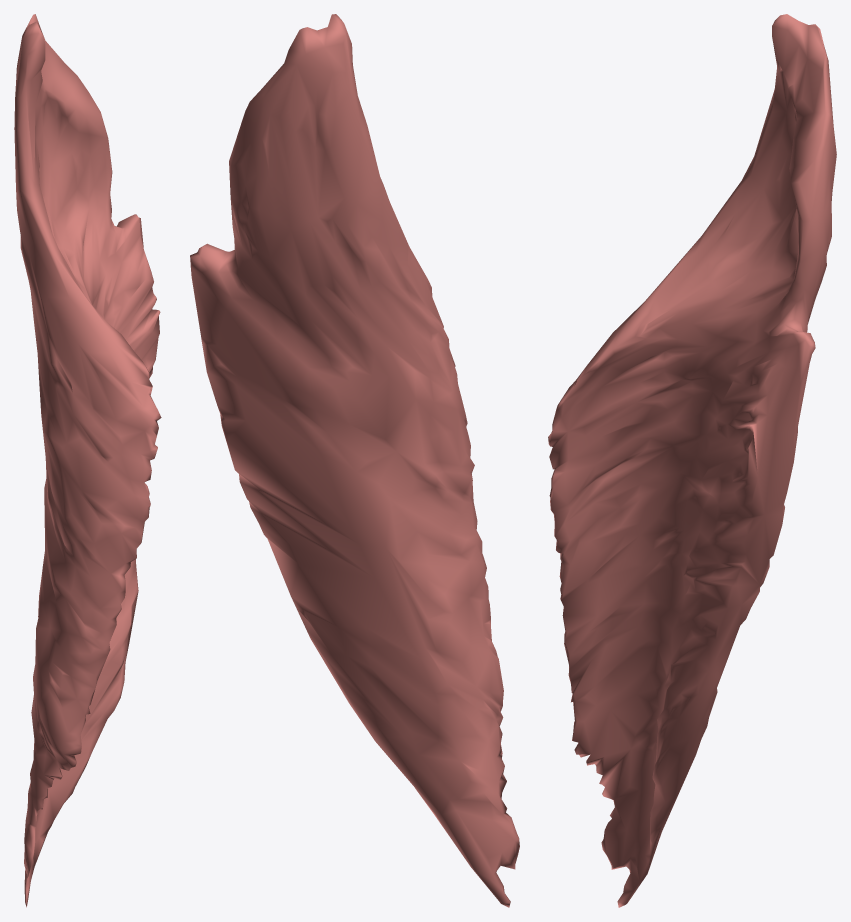
3 renders of one model, left to right at view 1: azimuth 30°, elevation 25°; view 2: azimuth 150°, elevation 25°; view 3: azimuth 270°, elevation 25°, orthographic. The views are drawn at different scales.
Visible parts, largest first — view 1: ZA_9a89804bc595455f; view 2: ZA_9a89804bc595455f; view 3: ZA_9a89804bc595455f.
Part boxes in pixels (x1=…): ZA_9a89804bc595455f: x1=14, y1=14, x2=161, y2=907; ZA_9a89804bc595455f: x1=190, y1=14, x2=519, y2=907; ZA_9a89804bc595455f: x1=548, y1=14, x2=836, y2=907.
Bounding box in the file's own units: 0.0329 × 0.128 × 0.0356.
